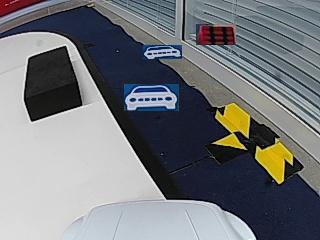block: (23, 46, 82, 121)
